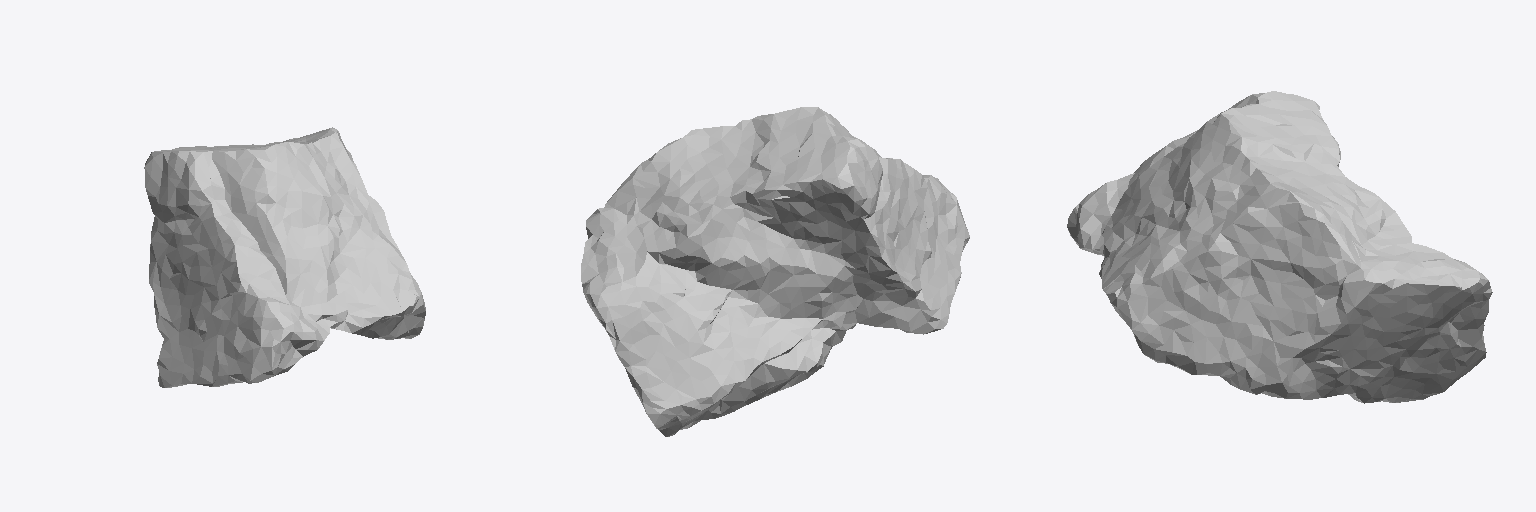
File: stone2.obj
3 views of the same model, side by side, from view 1: azimuth 30°, elevation 25°; view 2: azimuth 150°, elevation 25°; view 3: azimuth 270°, elevation 25° (orthographic).
Size of the model in its own units: 7.3 by 6.79 by 9.89.